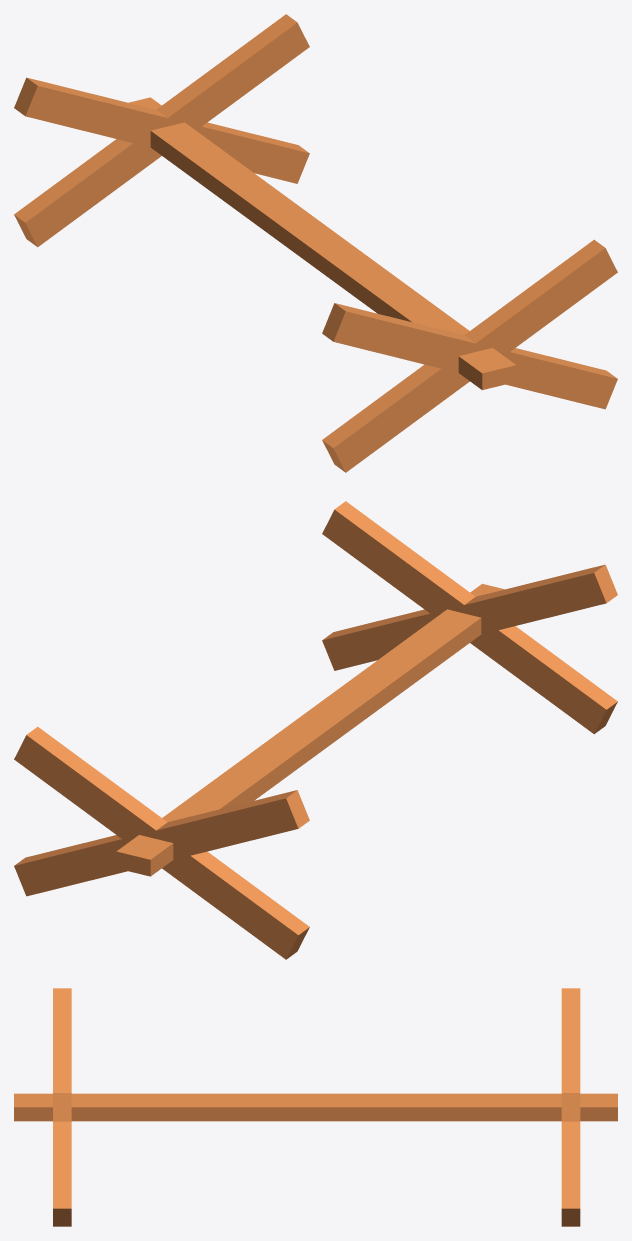
File: bedrollFrame.obj
3 renders of one model, top to bottom at view 1: azimuth 30°, elevation 25°; view 2: azimuth 150°, elevation 25°; view 3: azimuth 270°, elevation 25°, orthographic. The views are drawn at different scales.
Visible parts, largest first — view 1: bedrollFrame; view 2: bedrollFrame; view 3: bedrollFrame.
Part boxes in pixels (<box>): bedrollFrame: <box>14,14,617,472</box>; bedrollFrame: <box>14,501,617,959</box>; bedrollFrame: <box>14,988,617,1226</box>.
Size of the model in its own units: 0.2722 by 0.1477 by 0.6063.
